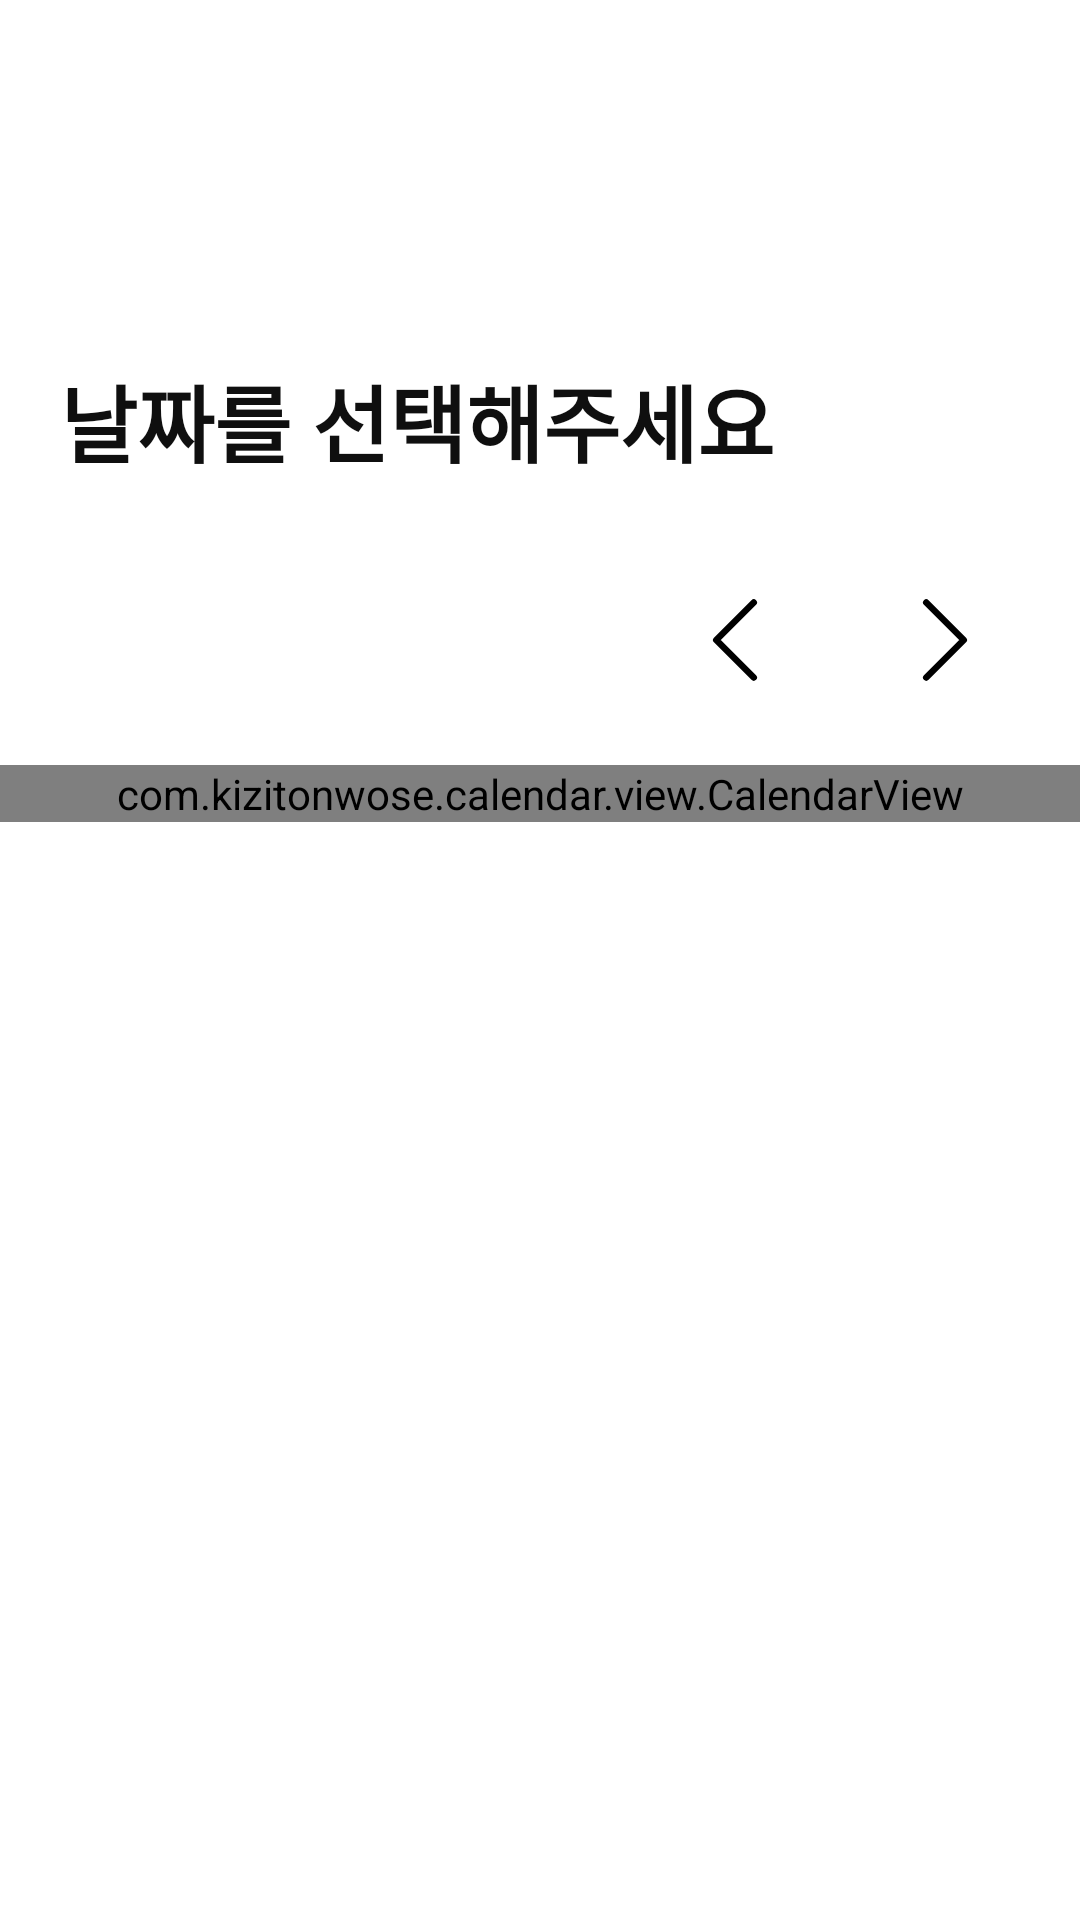

Locate icon controls on the screen. Image size 1080w x 1920h, boxes as (x1, y1, x2, y2).
calendar next sv: (922, 599, 967, 681)
calendar previous sv: (713, 599, 758, 681)
